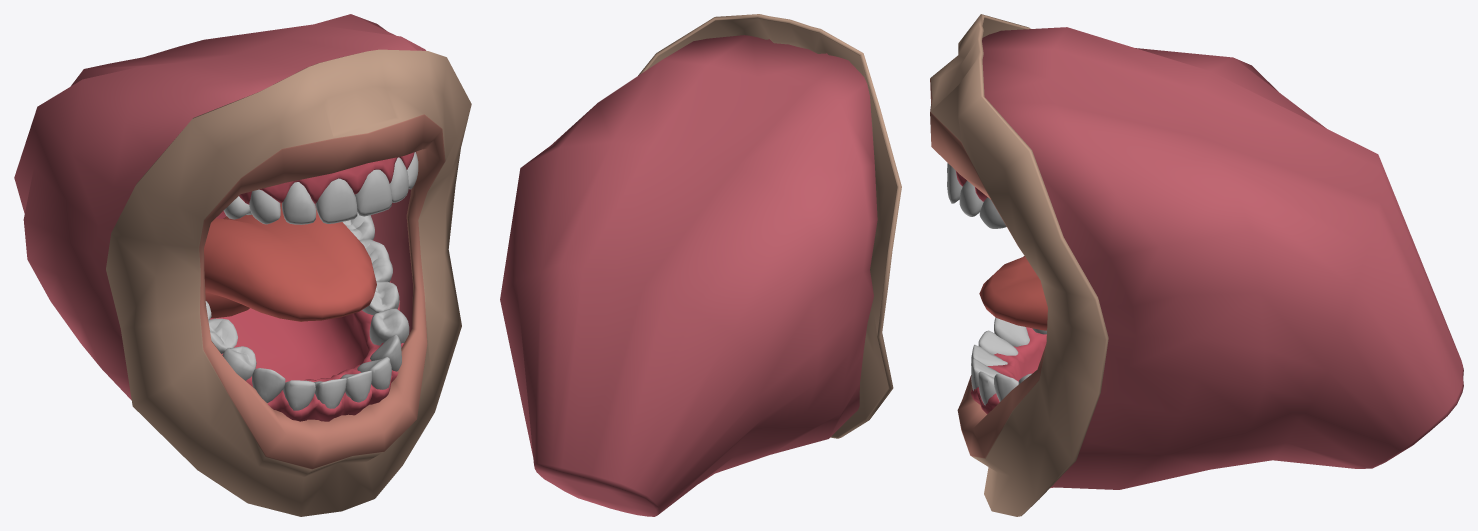
File: mouth_scaled.glb
3 renders of one model, left to right at view 1: azimuth 30°, elevation 25°; view 2: azimuth 150°, elevation 25°; view 3: azimuth 270°, elevation 25°, orthographic. The views are drawn at different scales.
Parts seen in each view (by area): view 1: mouth_m, tongue_m, below_gum_m, lower_teeth.001, upper_teeth.001, upper_gum_m; view 2: mouth_m; view 3: mouth_m, tongue_m, lower_teeth.001, below_gum_m, upper_teeth.001.
Boxes of the visible parts, bbox=[...] form: mouth_m: bbox=[14, 14, 471, 516]; tongue_m: bbox=[204, 203, 376, 321]; below_gum_m: bbox=[210, 204, 403, 421]; lower_teeth.001: bbox=[205, 212, 409, 410]; upper_teeth.001: bbox=[223, 152, 418, 224]; upper_gum_m: bbox=[216, 152, 416, 218]; mouth_m: bbox=[500, 14, 901, 516]; mouth_m: bbox=[930, 14, 1463, 516]; tongue_m: bbox=[979, 256, 1047, 330]; lower_teeth.001: bbox=[971, 317, 1046, 405]; below_gum_m: bbox=[970, 327, 1046, 414]; upper_teeth.001: bbox=[947, 163, 1006, 228].
Bounding box in the file's own units: 6.31 × 7.5 × 7.96.
